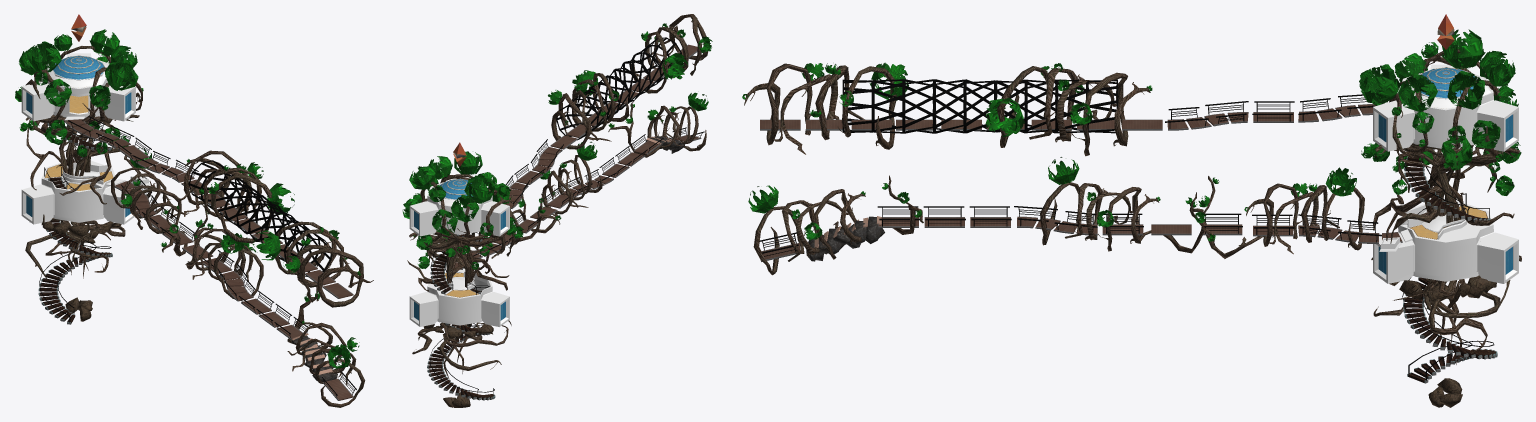
File: BlockChain_Tower_Art.glb
The picture shows the model from 3 angles, left to right: view 1: azimuth 30°, elevation 25°; view 2: azimuth 150°, elevation 25°; view 3: azimuth 270°, elevation 25°; orthographic projection. The views are drawn at different scales.
Parts seen in each view (by area): view 1: BlockChain_Tower_Art; view 2: BlockChain_Tower_Art; view 3: BlockChain_Tower_Art.
Part boxes in pixels (<box>): BlockChain_Tower_Art: <box>15,14,373,407</box>; BlockChain_Tower_Art: <box>402,14,712,407</box>; BlockChain_Tower_Art: <box>742,14,1521,407</box>.
Bounding box in the file's own units: 15.9 × 44.92 × 81.75.
Materials: 19 (19 with a texture image).
